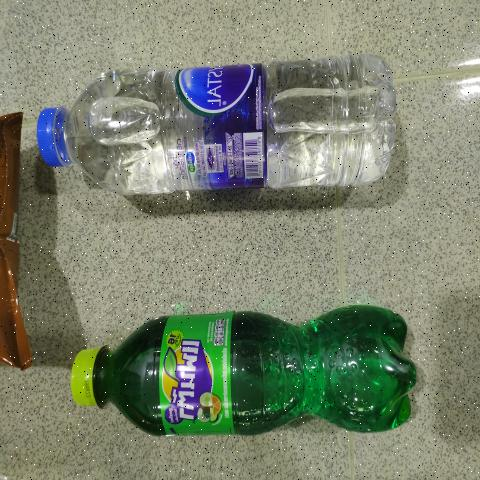crystal: (41, 46, 401, 210)
fanta_green: (65, 291, 424, 450)
